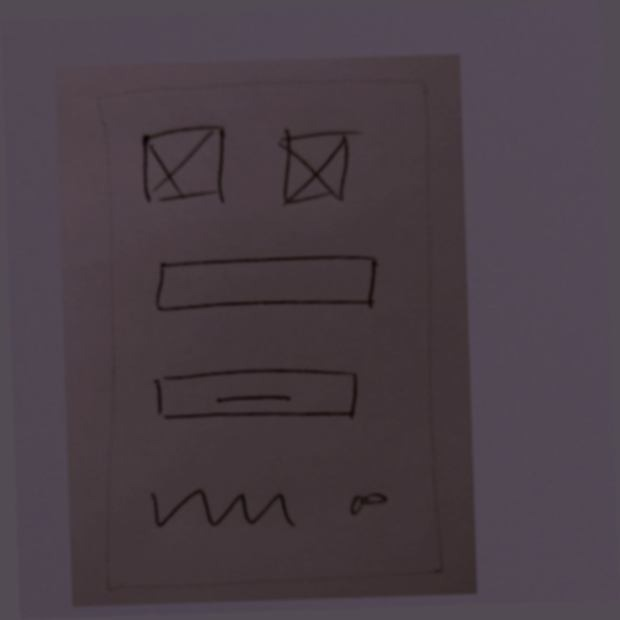button: (145, 358, 367, 435)
image: (133, 119, 234, 213), (272, 123, 366, 212)
switch: (340, 480, 401, 526)
text: (139, 470, 305, 545)
text_input: (145, 247, 384, 326)
